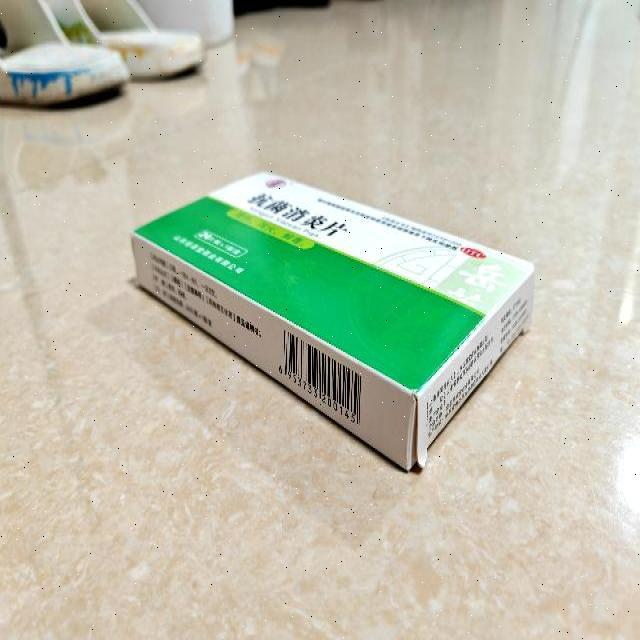box: (128, 168, 536, 474)
